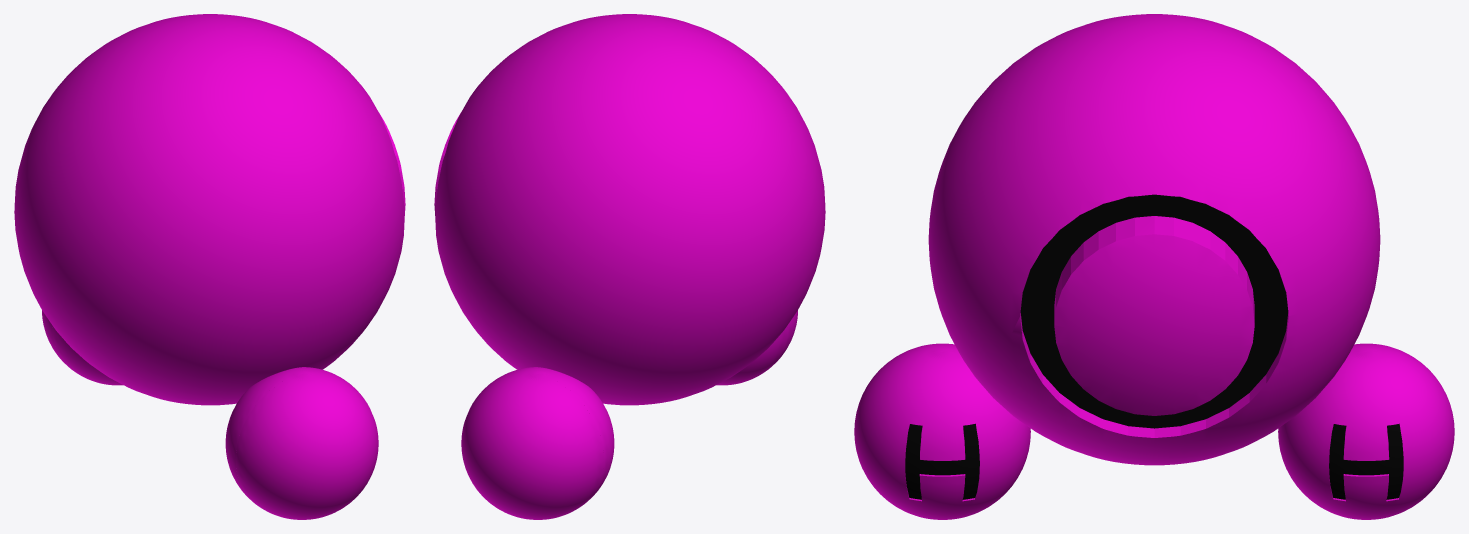
File: nuc3.gltf
3 views of the same model, side by side, from view 1: azimuth 30°, elevation 25°; view 2: azimuth 150°, elevation 25°; view 3: azimuth 270°, elevation 25° (orthographic). The views are drawn at different scales.
Visible parts, largest first — view 1: Sphere.001, Sphere, Sphere.002; view 2: Sphere.001, Sphere.002, Sphere; view 3: Sphere.001, Sphere.002, Sphere.
Part boxes in pixels (box(x1,y1,x2,y2)): Sphere.001: box(14, 14, 405, 405); Sphere: box(225, 367, 378, 519); Sphere.002: box(42, 310, 123, 385); Sphere.001: box(434, 14, 825, 405); Sphere.002: box(461, 367, 614, 519); Sphere: box(716, 310, 797, 385); Sphere.001: box(928, 14, 1380, 465); Sphere.002: box(1278, 343, 1454, 519); Sphere: box(854, 343, 1030, 519).
Bounding box in the file's own units: 0.1279 × 0.149 × 0.17.
